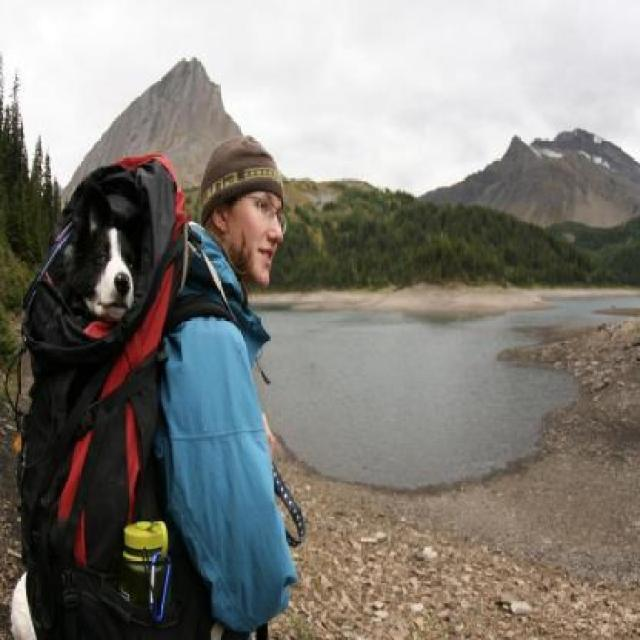backpack: (11, 149, 186, 640)
